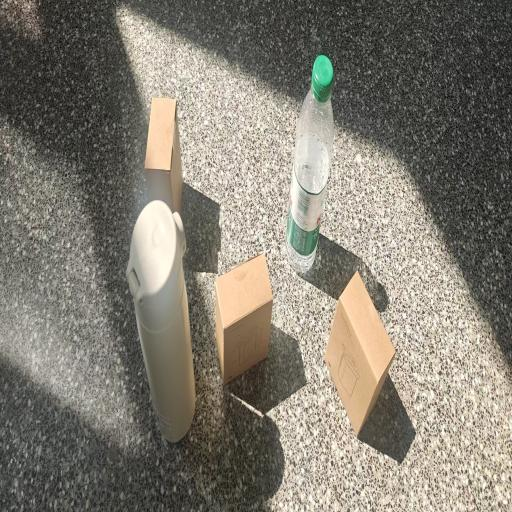bottle: (126, 200, 196, 442), (286, 55, 334, 273)
box: (324, 271, 395, 436), (215, 253, 273, 385), (144, 98, 183, 218)
